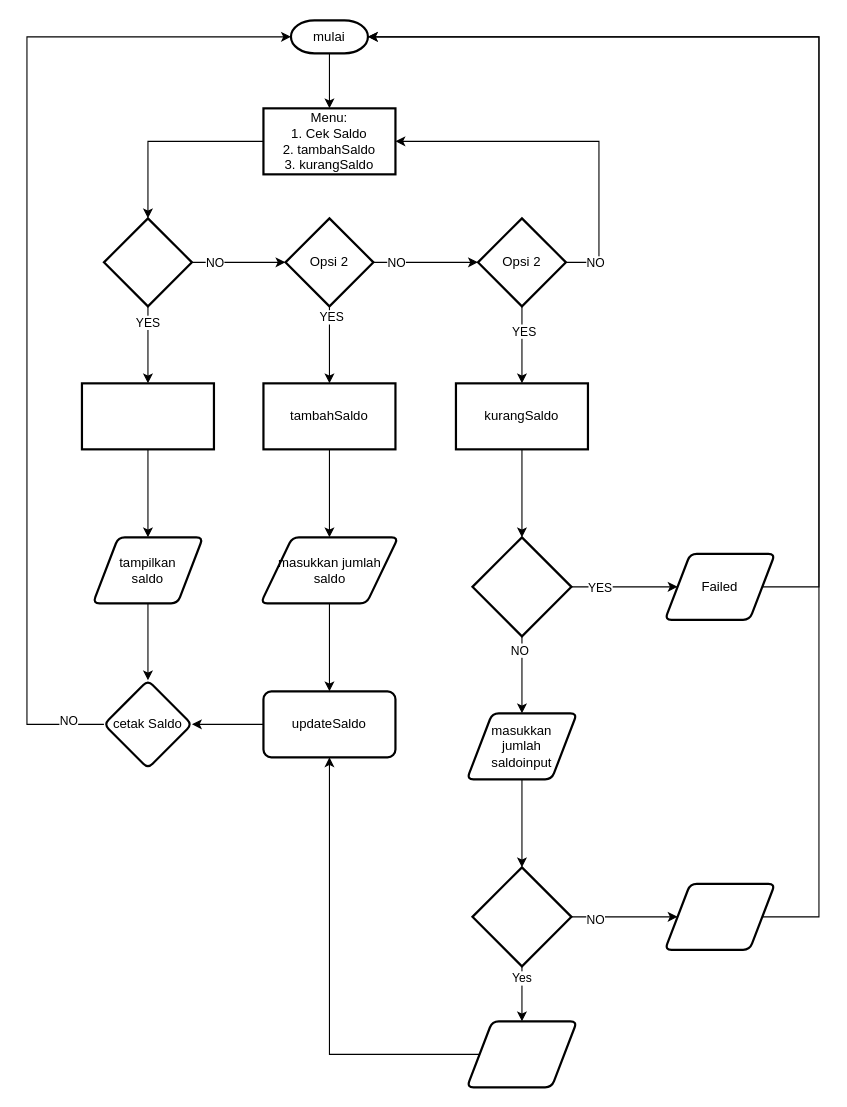
Some shapes in this 847 by 1107 pixel diagram are drawn without their labels. The shapes that lost their labels are listed below. From the top down, each one's centre as x and y in pixels, then its label:
(x=147, y=262): Opsi 1
(x=147, y=416): check Balance
(x=521, y=586): cek saldo = 0
(x=521, y=916): cek saldo > saldoinput
(x=719, y=916): Failed ambilSaldo
(x=521, y=1054): Success ambilSaldo
